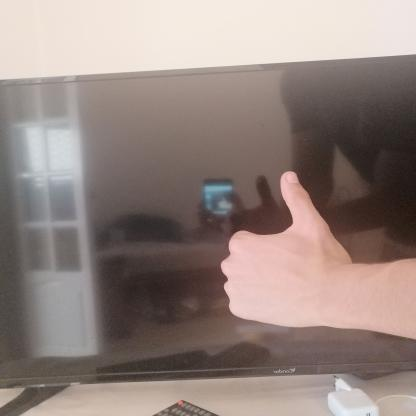ALIF: (202, 157, 355, 337)
